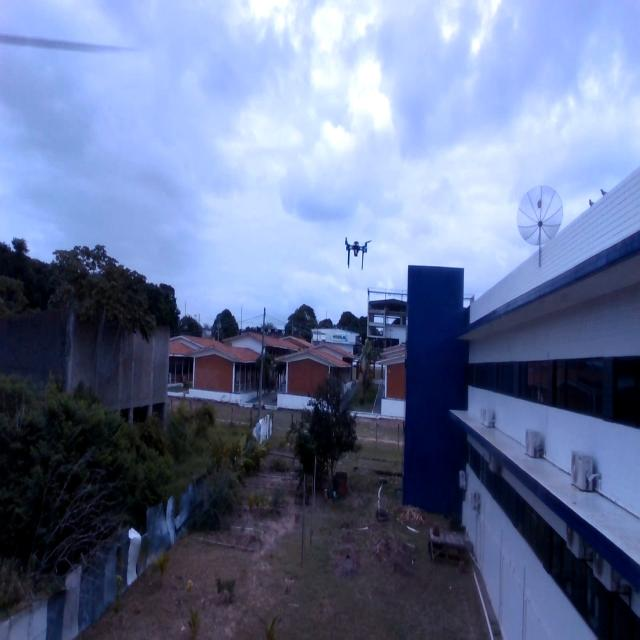-uav-: (343, 225, 374, 271)
